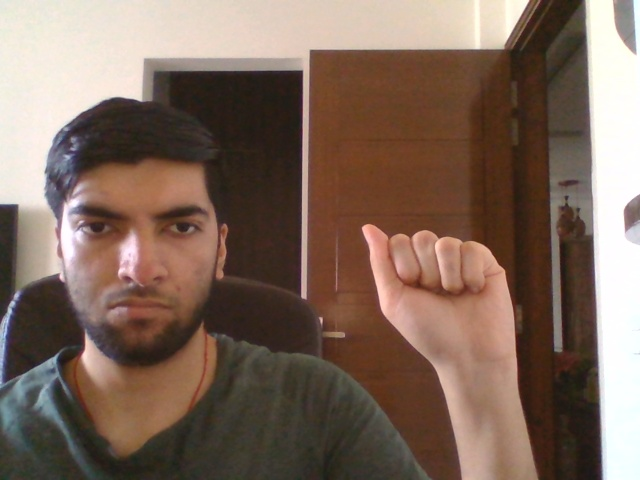LetterA: (360, 223, 519, 372)
